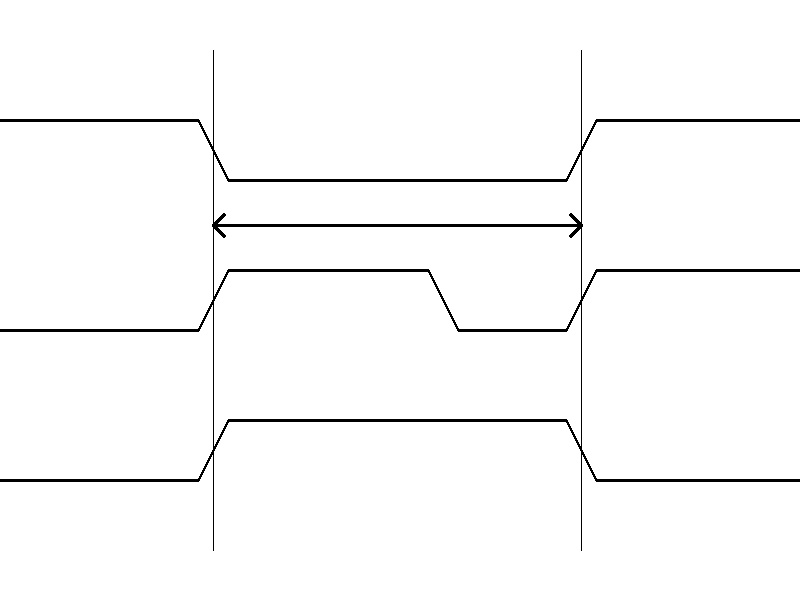double_arrow: (213, 210, 581, 240)
